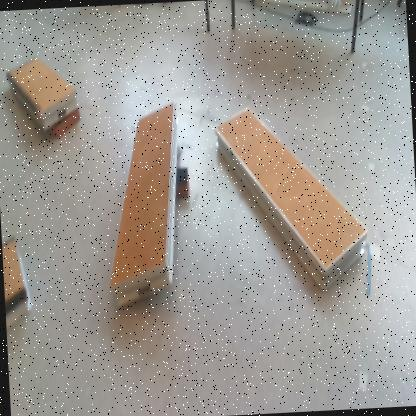Stairs: (215, 107, 368, 296), (106, 100, 181, 311), (4, 53, 83, 129), (3, 233, 34, 332)
